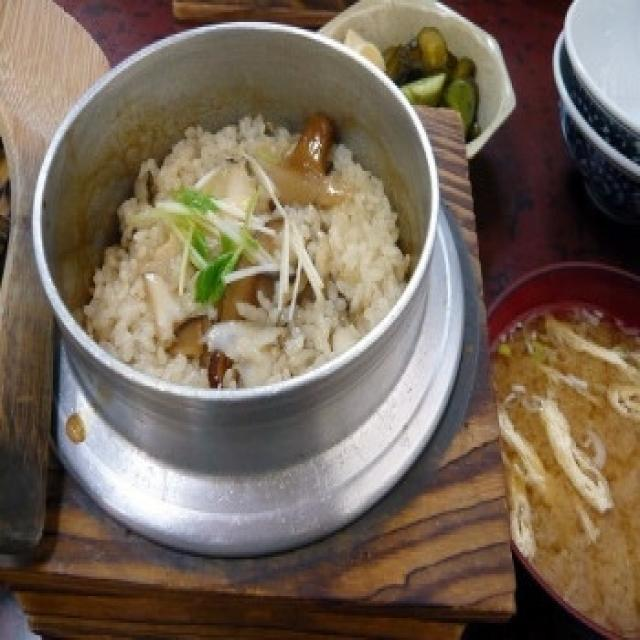炸货点心: (0, 21, 612, 640)
熟制海鲜: (0, 21, 612, 640)
